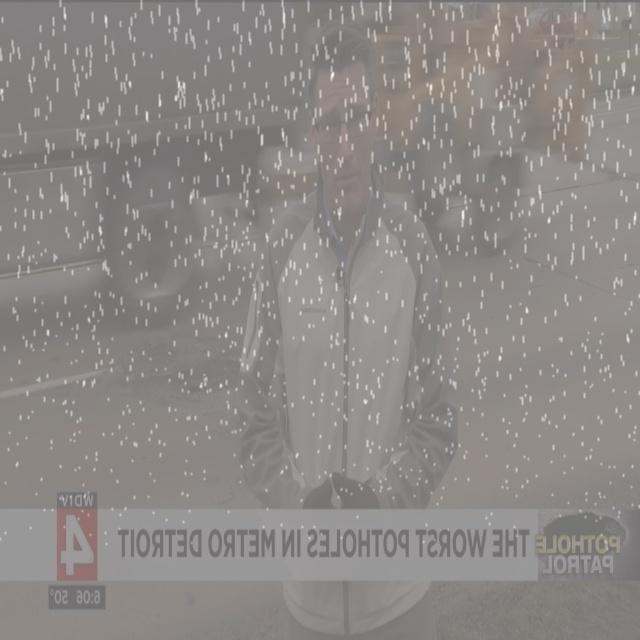Pothole: (119, 332, 244, 412)
